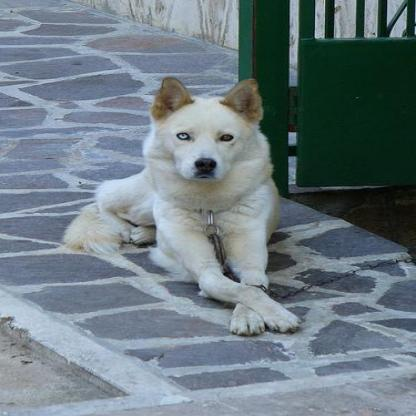Eskimo_dog: (47, 68, 315, 343)
